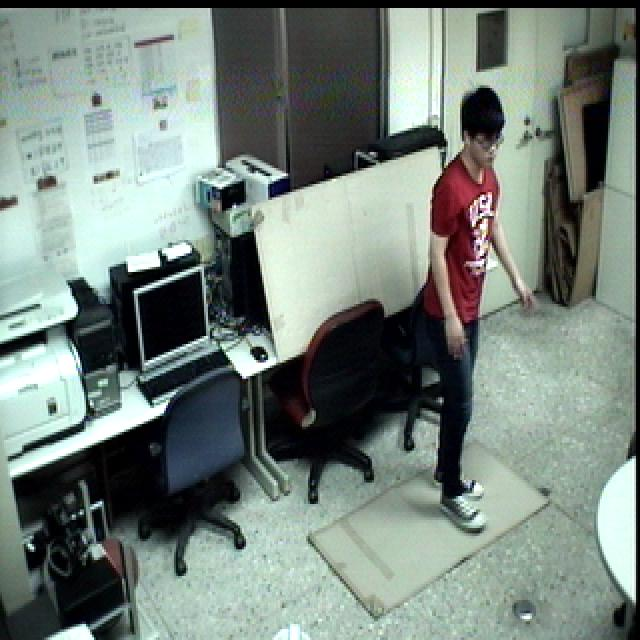stand: (420, 75, 550, 547)
